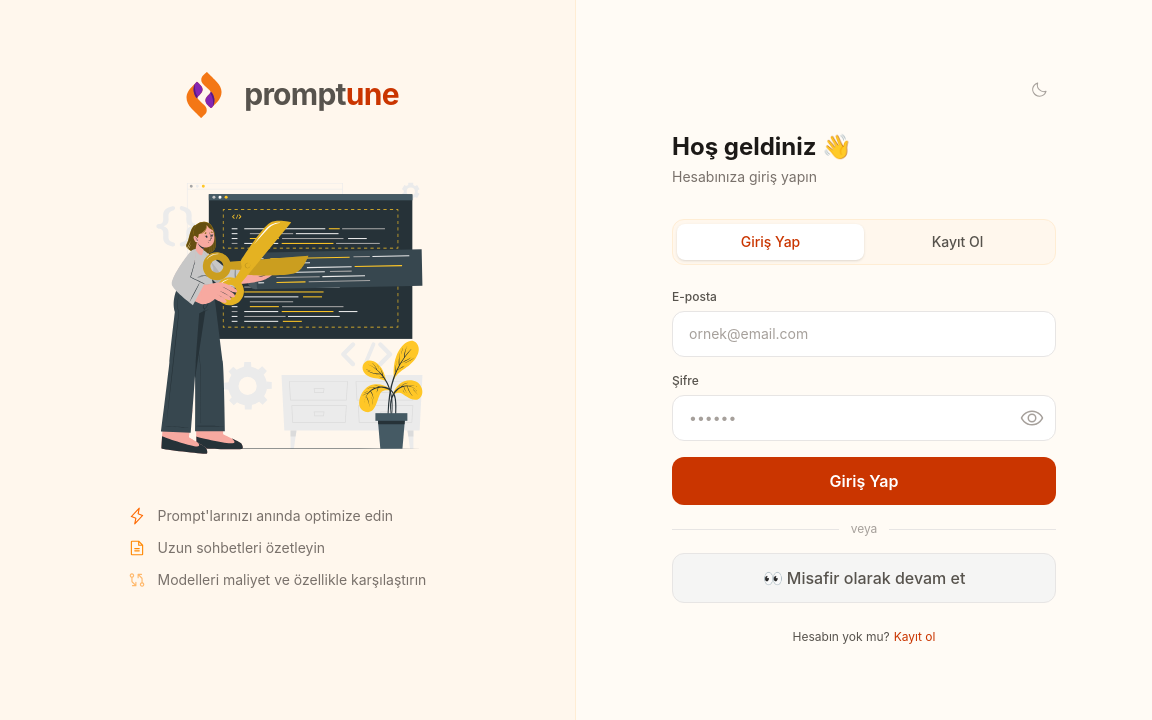
Test: Auth — tab geçişi › Kayıt Ol tabına tıklayınca Şifre Tekrar inputu görünmeli
Click the button "Kayıt Ol".
click(958, 242)  # box [864, 224, 1051, 260]
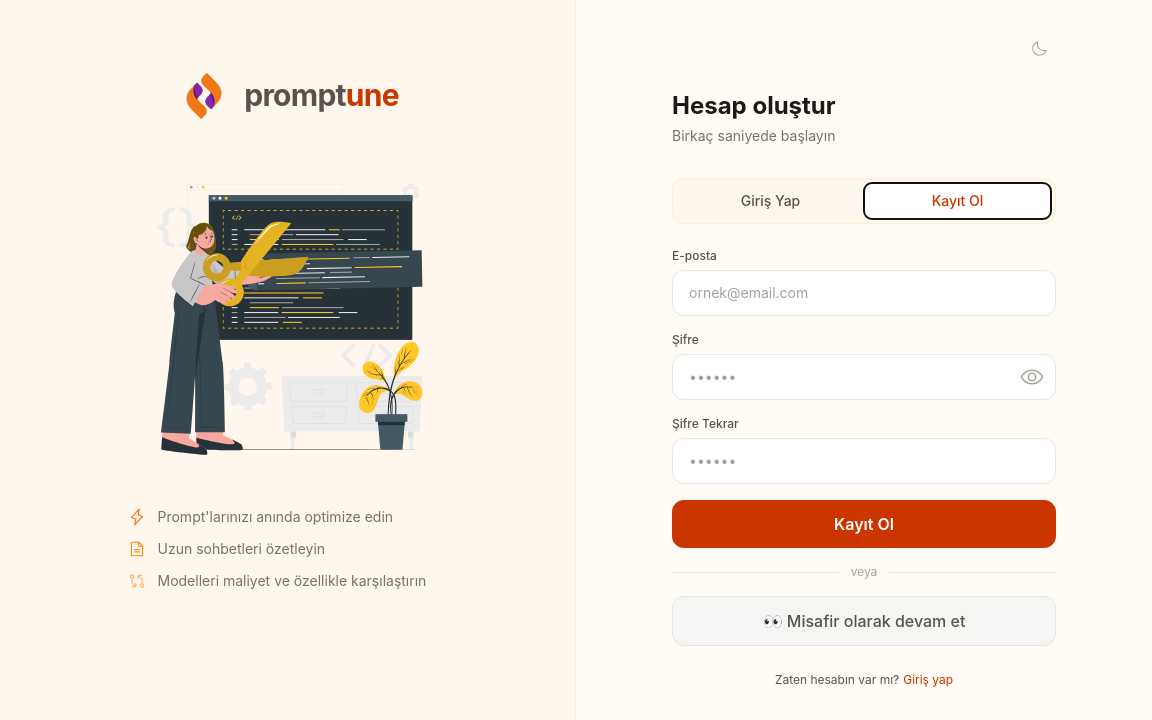
Expected: the number of password fields with placeholder "••••••" is 2, [672, 354, 1056, 400]; [672, 438, 1056, 484]
